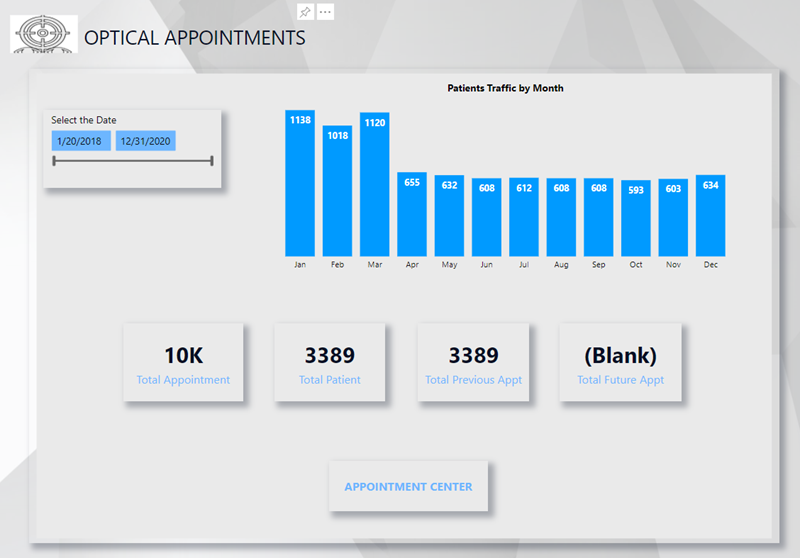

What the dashboard file says about the page in this screenshot:
{"tool":"powerbi","page":{"name":"Overview","canvas":[1330,1000],"ordinal":0},"visuals":[{"type":"card","fields":{"Values":["Measures List.Total Patient"]},"box":[461.4,531.1,180.6,127.8],"z":0,"group":"g1"},{"type":"basicShape","box":[59.1,113.6,1230.2,778.4],"z":0},{"type":"card","fields":{"Values":["Measures List.Future Appt Count"]},"box":[929.6,531.1,200.1,127.8],"z":1000,"group":"g1"},{"type":"columnChart","title":"Patients Traffic by Month","fields":{"Category":["Dates.Month Name Short"],"Y":["Measures List.Total Patient"]},"box":[449.5,133.7,780.7,320.6],"z":1000},{"type":"card","fields":{"Values":["Measures List.Total Appointment"]},"box":[214.1,531.1,195.9,127.8],"z":2000,"group":"g1"},{"type":"slicer","fields":{"Values":["Dates.Date"]},"box":[82.8,181,292.2,127.8],"z":2000},{"type":"image","box":[22.7,0,121.4,113.4],"z":3000},{"type":"card","fields":{"Values":["Measures List.Total Previous Appt"]},"box":[696.2,531.1,183.4,127.8],"z":3000,"group":"g1"},{"type":"textbox","box":[144.3,34.3,416.4,58],"z":4000},{"type":"actionButton","box":[551.2,757.1,261.4,82.8],"z":5000},{"type":"group","id":"g1","title":"Group 1","box":[214.1,531.1,915.6,127.8],"z":6000}]}

Visuals, with their boxes on the page's 1330x1000 design canvas (x1, y1, x2, y2). These are canvas units, not pixel positions in the 800x558 screenshot, which may show the page scaled, cropped or inside an application window:
card - Measures List.Total Patient: bbox=[461, 531, 642, 659]
basicShape: bbox=[59, 114, 1289, 892]
card - Measures List.Future Appt Count: bbox=[930, 531, 1130, 659]
"Patients Traffic by Month" columnChart: bbox=[450, 134, 1230, 454]
card - Measures List.Total Appointment: bbox=[214, 531, 410, 659]
slicer - Dates.Date: bbox=[83, 181, 375, 309]
image: bbox=[23, 0, 144, 113]
card - Measures List.Total Previous Appt: bbox=[696, 531, 880, 659]
textbox: bbox=[144, 34, 561, 92]
actionButton: bbox=[551, 757, 813, 840]
"Group 1" group: bbox=[214, 531, 1130, 659]
